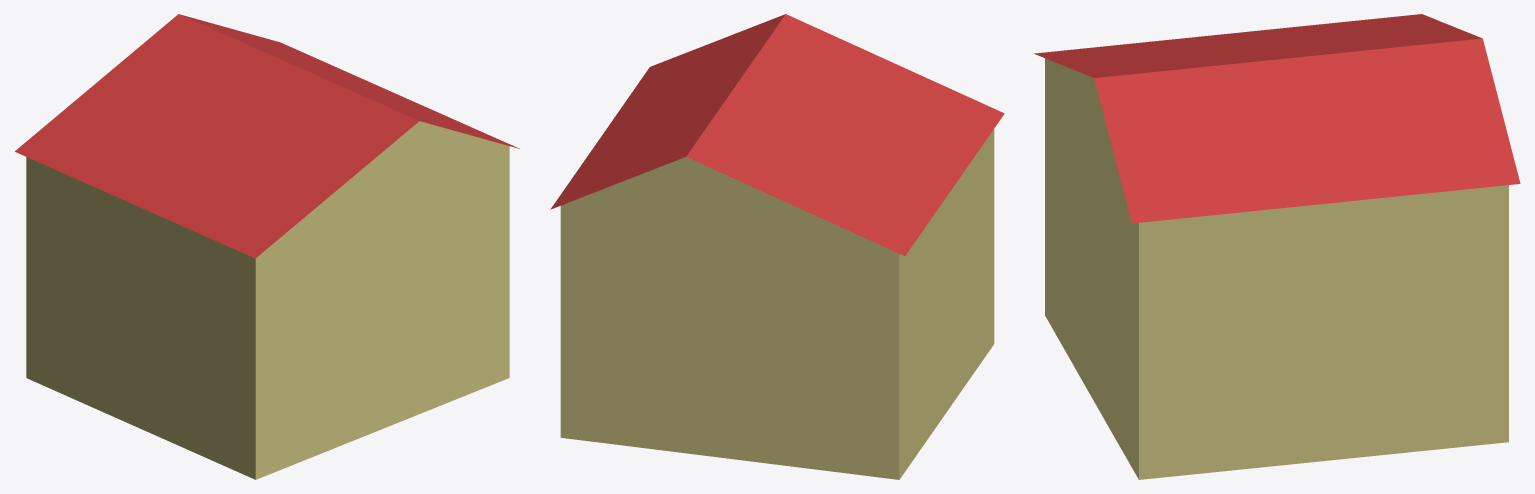
3 renders of one model, left to right at view 1: azimuth 30°, elevation 25°; view 2: azimuth 150°, elevation 25°; view 3: azimuth 270°, elevation 25°, orthographic. The views are drawn at different scales.
Bounding box in the file's own units: 13.11 × 12.72 × 9.82.
